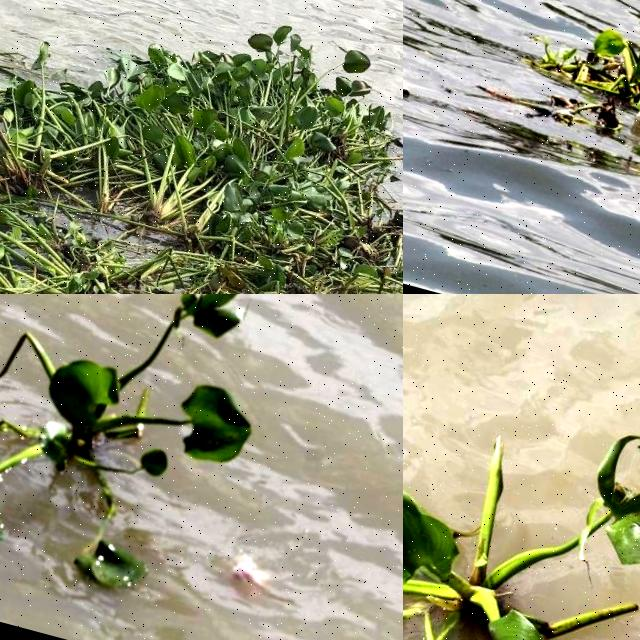water-hyacinth: (1, 23, 399, 295), (1, 295, 292, 619), (404, 313, 640, 640), (529, 1, 640, 186)
